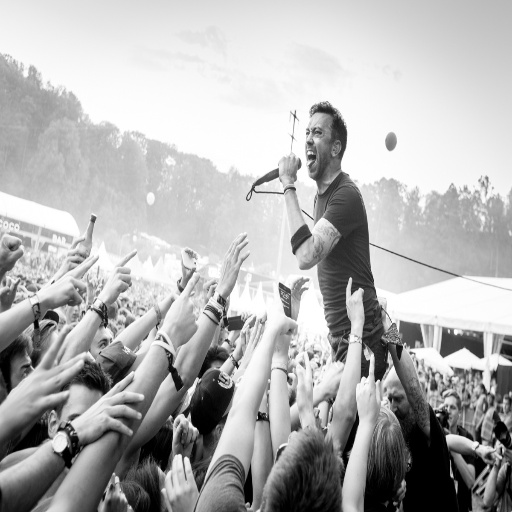hand: (3, 320, 90, 433), (230, 272, 309, 370), (72, 367, 144, 446), (46, 252, 99, 309), (208, 240, 249, 311), (162, 270, 199, 346), (160, 453, 199, 511), (101, 246, 136, 302), (355, 352, 380, 424), (171, 412, 199, 462), (96, 472, 128, 511), (294, 346, 313, 411), (58, 231, 86, 272), (344, 275, 365, 327), (320, 359, 343, 401), (0, 232, 24, 271), (179, 246, 198, 280), (0, 272, 20, 304), (162, 287, 196, 305), (277, 149, 296, 181), (84, 271, 102, 304), (478, 444, 502, 465), (201, 276, 218, 303), (286, 357, 297, 395), (395, 476, 407, 502), (492, 442, 503, 467), (377, 298, 387, 325), (442, 418, 455, 433), (431, 403, 448, 414), (243, 500, 253, 511), (264, 377, 272, 390), (473, 423, 480, 433), (471, 417, 477, 426)
